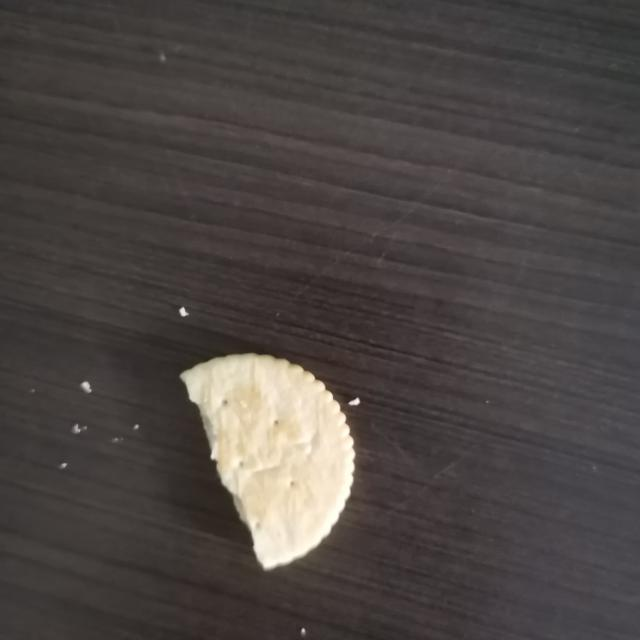Broken: (178, 351, 356, 571)
